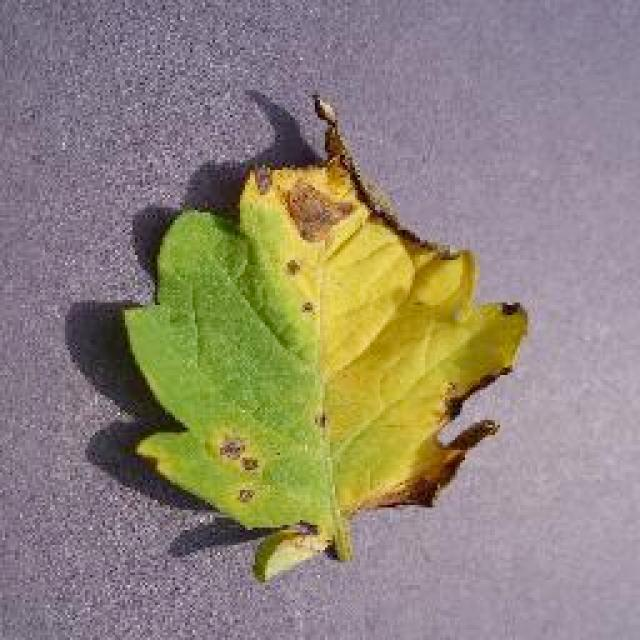Tomato Septoria spot leaf: (118, 94, 528, 582)
